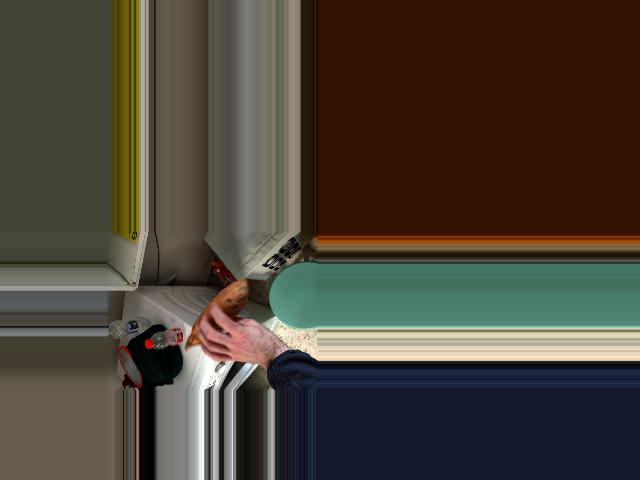sweet_potato: (187, 283, 247, 354)
